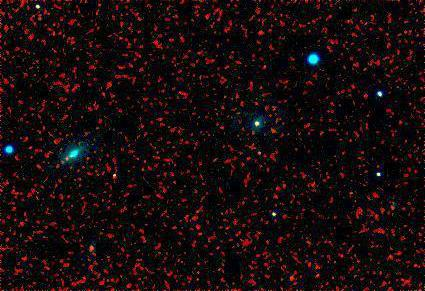star: (248, 136, 278, 166)
